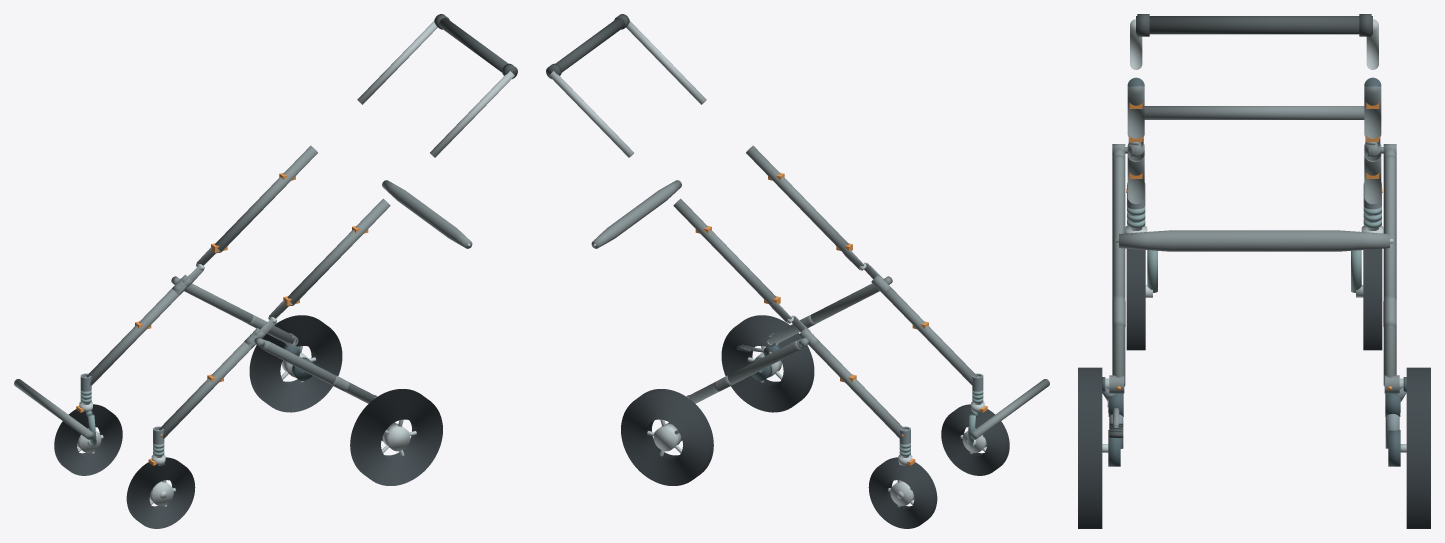
Rendered from w550_state5.glb.
3 views of the same model, side by side, from view 1: azimuth 30°, elevation 25°; view 2: azimuth 150°, elevation 25°; view 3: azimuth 270°, elevation 25° (orthographic). The views are drawn at different scales.
Visible parts, largest first — view 1: RL_tire.006, RR_tire.006, FL_tire.006, FR_tire.006, main_upper_-1.007, main_upper_1.007, V46_rearbar.007, main_lower_1.007, main_lower_-1.007, V46_rear_leg_-1.007, V46_rear_leg_1.007, round_handle.006 (+3 smaller); view 2: RR_tire.006, RL_tire.006, FR_tire.006, FL_tire.006, main_upper_1.007, main_upper_-1.007, V46_rearbar.007, main_lower_-1.007, main_lower_1.007, V46_rear_leg_1.007, V46_rear_leg_-1.007, round_handle.006 (+3 smaller); view 3: V46_rearbar.007, round_handle.006, RL_tire.006, RR_tire.006, front_fixed_round_tube.006, V46_rear_leg_1.007, V46_rear_leg_-1.007, FL_tire.006, FR_tire.006, main_upper_1.007, main_upper_-1.007, main_lower_1.007 (+8 smaller).
Boxes of the visible parts, x1=… form: RL_tire.006: x1=350, y1=389, x2=442, y2=485; RR_tire.006: x1=249, y1=315, x2=342, y2=412; FL_tire.006: x1=126, y1=457, x2=195, y2=528; FR_tire.006: x1=54, y1=404, x2=122, y2=475; main_upper_-1.007: x1=287, y1=198, x2=390, y2=305; main_upper_1.007: x1=215, y1=145, x2=317, y2=252; V46_rearbar.007: x1=382, y1=180, x2=472, y2=248; main_lower_1.007: x1=86, y1=286, x2=185, y2=385; main_lower_-1.007: x1=159, y1=342, x2=254, y2=438; V46_rear_leg_-1.007: x1=262, y1=340, x2=376, y2=403; V46_rear_leg_1.007: x1=184, y1=283, x2=294, y2=344; round_handle.006: x1=439, y1=18, x2=516, y2=77; RR_tire.006: x1=621, y1=389, x2=713, y2=485; RL_tire.006: x1=721, y1=315, x2=814, y2=412; FR_tire.006: x1=868, y1=457, x2=937, y2=528; FL_tire.006: x1=941, y1=404, x2=1009, y2=475; main_upper_1.007: x1=673, y1=198, x2=776, y2=305; main_upper_-1.007: x1=746, y1=145, x2=848, y2=252; V46_rearbar.007: x1=591, y1=180, x2=681, y2=248; main_lower_-1.007: x1=878, y1=286, x2=977, y2=385; main_lower_1.007: x1=809, y1=342, x2=904, y2=438; V46_rear_leg_1.007: x1=687, y1=340, x2=801, y2=403; V46_rear_leg_-1.007: x1=769, y1=283, x2=879, y2=344; round_handle.006: x1=547, y1=18, x2=624, y2=77; V46_rearbar.007: x1=1119, y1=230, x2=1389, y2=251; round_handle.006: x1=1136, y1=16, x2=1372, y2=34; RL_tire.006: x1=1078, y1=367, x2=1102, y2=528; RR_tire.006: x1=1406, y1=367, x2=1430, y2=528; front_fixed_round_tube.006: x1=1144, y1=106, x2=1364, y2=119; V46_rear_leg_1.007: x1=1383, y1=155, x2=1396, y2=386; V46_rear_leg_-1.007: x1=1112, y1=155, x2=1125, y2=386; FL_tire.006: x1=1126, y1=248, x2=1145, y2=350; FR_tire.006: x1=1363, y1=248, x2=1382, y2=350; main_upper_1.007: x1=1364, y1=77, x2=1381, y2=138; main_upper_-1.007: x1=1127, y1=77, x2=1144, y2=138; main_lower_1.007: x1=1364, y1=156, x2=1381, y2=204.
Bounding box in the file's own units: 1.51 × 1.25 × 0.656.
